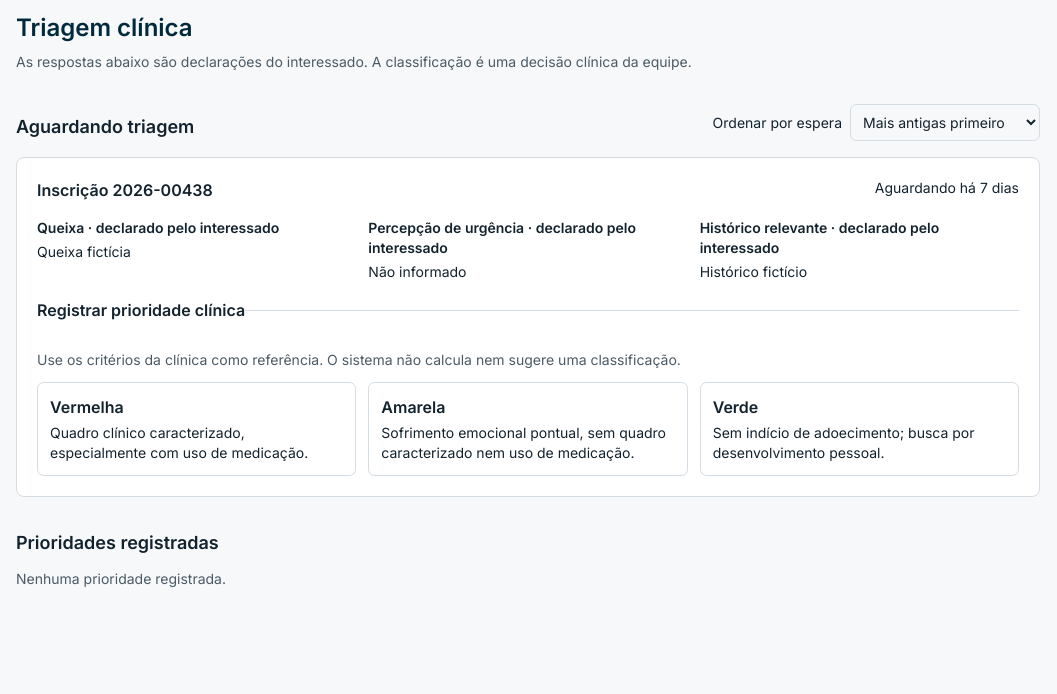
Test: Triagem (RF4 e RF6) › registra a prioridade escolhida, com a referência da clínica só como apoio textual (RF6)
This screenshot has width=1057, height=694.
Check: the heading "Inscrição 2026-00438" is shown, box 37,178 -> 213,202
Check: the text "O sistema não calcula nem sugere" is shown, box 37,351 -> 681,368
Click the button "Amarela" at (528, 429), box 368,382 -> 688,476
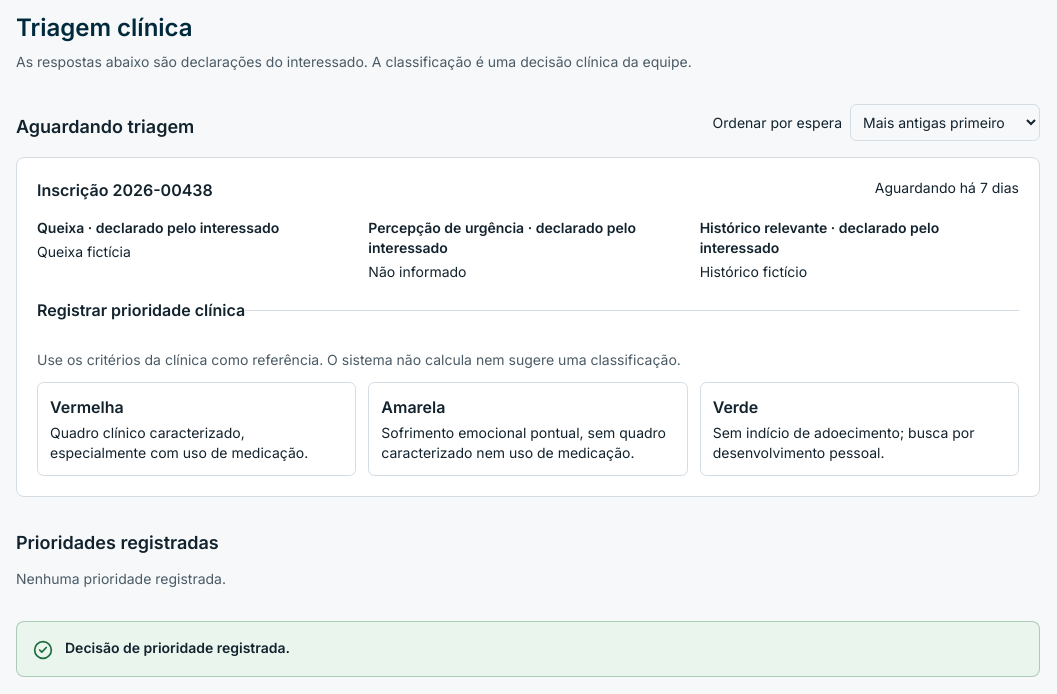
Check: the text "Decisão de prioridade registrada." is shown, box 65,638 -> 290,658
